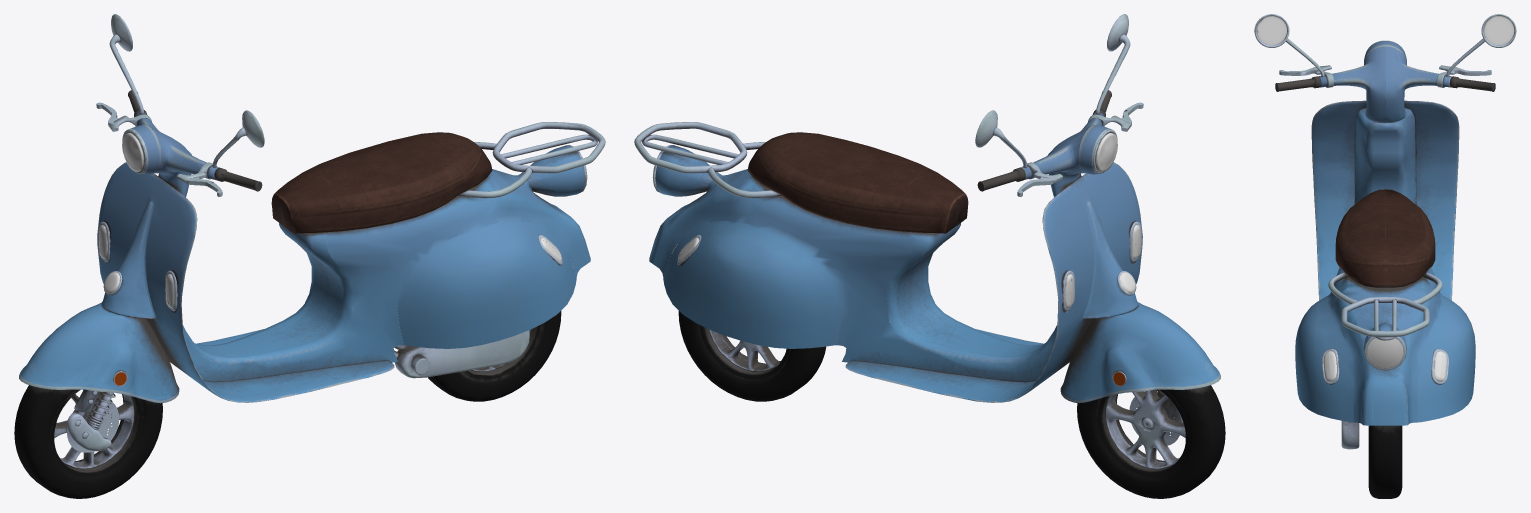
The model's file is L2_B1_Scooter.fbx.
3 views of the same model, side by side, from view 1: azimuth 30°, elevation 25°; view 2: azimuth 150°, elevation 25°; view 3: azimuth 270°, elevation 25° (orthographic). The views are drawn at different scales.
Parts seen in each view (by area): view 1: L2_B1_Scooter; view 2: L2_B1_Scooter; view 3: L2_B1_Scooter.
Part boxes in pixels (x1,y1,x2,y2): L2_B1_Scooter: [14, 14, 605, 498]; L2_B1_Scooter: [634, 14, 1225, 498]; L2_B1_Scooter: [1254, 14, 1516, 498].
Bounding box in the file's own units: 1.97 × 1.32 × 0.8963.
7 materials, 7 textured.
